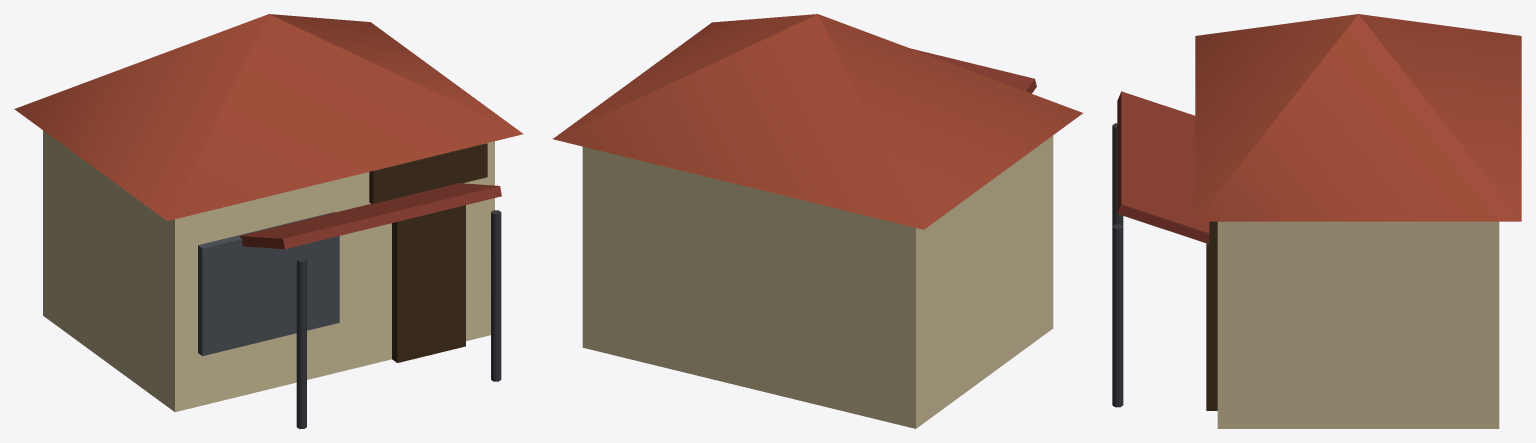
The model's file is shop.glb.
3 views of the same model, side by side, from view 1: azimuth 30°, elevation 25°; view 2: azimuth 150°, elevation 25°; view 3: azimuth 270°, elevation 25° (orthographic). The views are drawn at different scales.
Size of the model in its own units: 1.56 by 1.3 by 1.45.
